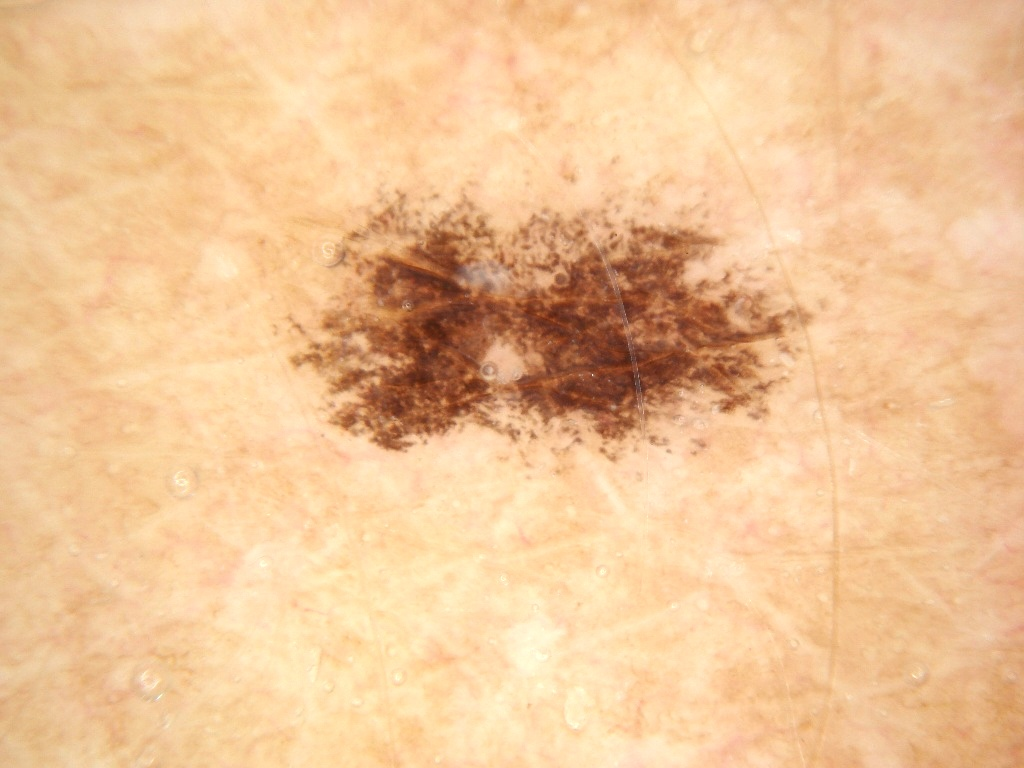Detected Lesion: (274, 167, 835, 485)
